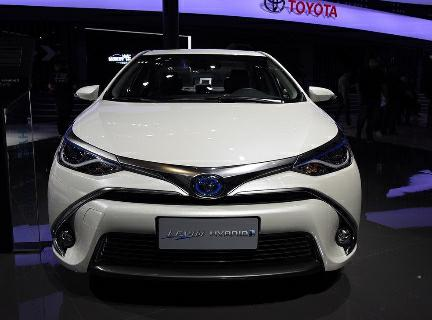丰田-凯美瑞: (38, 43, 371, 293)
